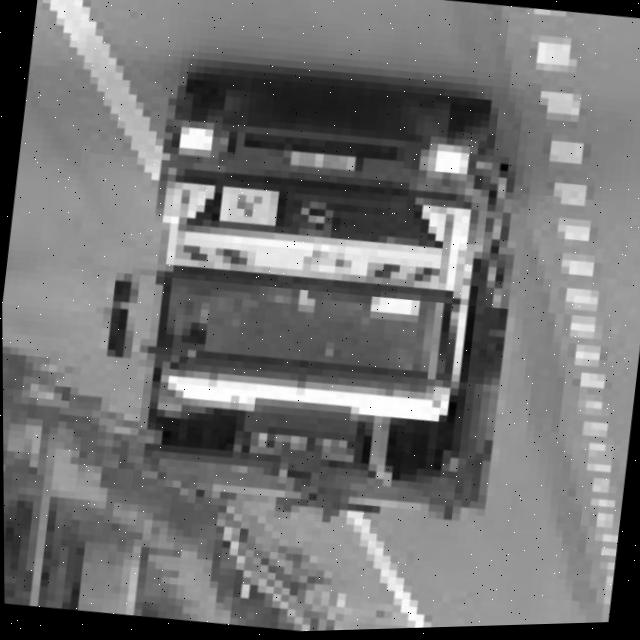truck: (104, 68, 524, 474)
